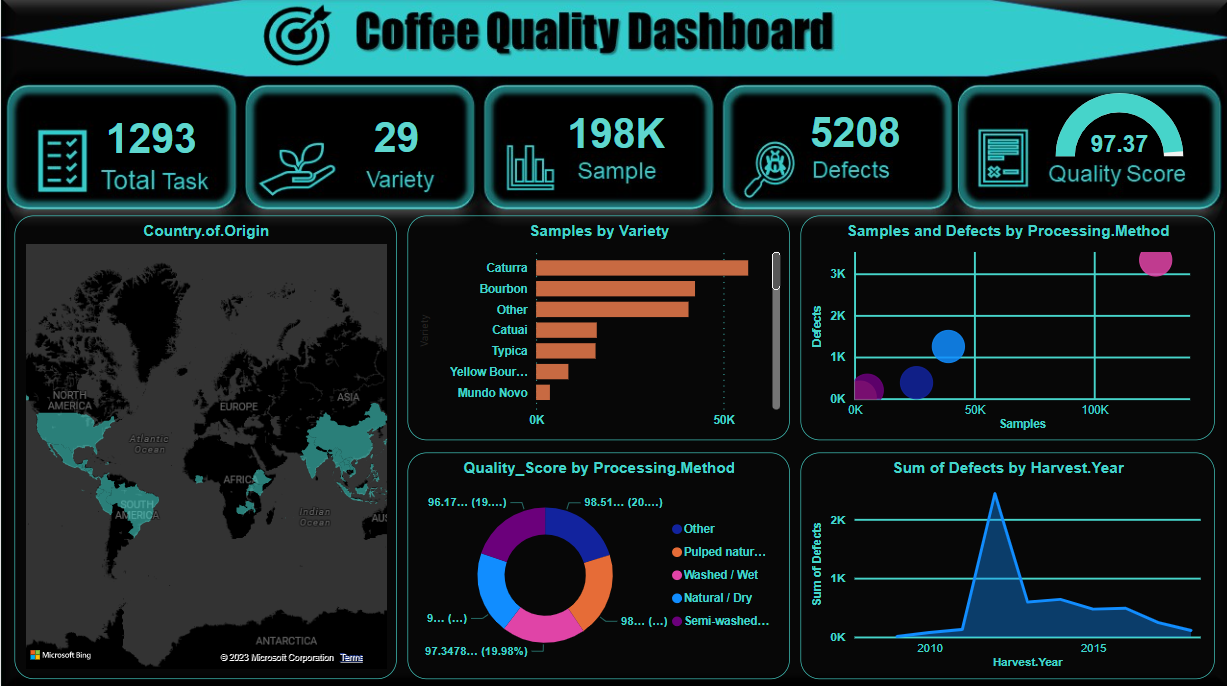

The dashboard page shown, as its layout file describes it:
{"tool":"powerbi","page":{"name":"Page 1","canvas":[1280,720],"ordinal":0},"visuals":[{"type":"card","fields":{"Values":["arabica_data_cleaned.Total_task"]},"box":[89,106.2,134.3,75],"z":0},{"type":"card","fields":{"Values":["Count(arabica_data_cleaned.Variety)"]},"box":[346.7,98.4,129.6,89],"z":1000},{"type":"card","fields":{"Values":["arabica_data_cleaned.Sample"]},"box":[579.4,96.8,121.8,84.3],"z":2000},{"type":"card","fields":{"Values":["arabica_data_cleaned.Defect"]},"box":[821.5,93.7,135.9,87.5],"z":3000},{"type":"barChart","title":"Samples by Variety","fields":{"Category":["arabica_data_cleaned.Variety"],"Y":["Sum(arabica_data_cleaned.Number.of.Bags)"]},"box":[423.3,226.5,398.3,234.3],"z":4000},{"type":"donutChart","fields":{"Y":["arabica_data_cleaned.Quality_Score"],"Category":["arabica_data_cleaned.Processing.Method"]},"box":[423.3,473.2,398.3,235.8],"z":5000},{"type":"stackedAreaChart","fields":{"Category":["arabica_data_cleaned.Harvest.Year"],"Y":["Sum(arabica_data_cleaned.Defects)"]},"box":[832.5,473.2,431.1,235.8],"z":6000},{"type":"scatterChart","title":"Samples and Defects by Processing.Method","fields":{"X":["Sum(arabica_data_cleaned.Number.of.Bags)"],"Y":["Sum(arabica_data_cleaned.Defects)"],"Series":["arabica_data_cleaned.Processing.Method"]},"box":[832.5,226.5,431.1,234.3],"z":7000},{"type":"filledMap","fields":{"Category":["arabica_data_cleaned.Country.of.Origin"]},"box":[14.1,226.5,398.3,482.6],"z":8000},{"type":"gauge","fields":{"Y":["arabica_data_cleaned.Quality_Score"]},"box":[1065.2,93.7,198.4,76.5],"z":11000}]}

Visuals, with their boxes in screenshot pixels (x1, y1, x2, y2), scaled from the page's 1280x720 canvas onto the 1227x686 screenshot:
card - arabica_data_cleaned.Total_task: x1=85 y1=101 x2=214 y2=173
card - Count(arabica_data_cleaned.Variety): x1=332 y1=94 x2=457 y2=179
card - arabica_data_cleaned.Sample: x1=555 y1=92 x2=672 y2=173
card - arabica_data_cleaned.Defect: x1=787 y1=89 x2=918 y2=173
"Samples by Variety" barChart: x1=406 y1=216 x2=788 y2=439
donutChart - arabica_data_cleaned.Quality_Score x arabica_data_cleaned.Processing.Method: x1=406 y1=451 x2=788 y2=676
stackedAreaChart - arabica_data_cleaned.Harvest.Year x Sum(arabica_data_cleaned.Defects): x1=798 y1=451 x2=1211 y2=676
"Samples and Defects by Processing.Method" scatterChart: x1=798 y1=216 x2=1211 y2=439
filledMap - arabica_data_cleaned.Country.of.Origin: x1=14 y1=216 x2=395 y2=676
gauge - arabica_data_cleaned.Quality_Score: x1=1021 y1=89 x2=1211 y2=162
